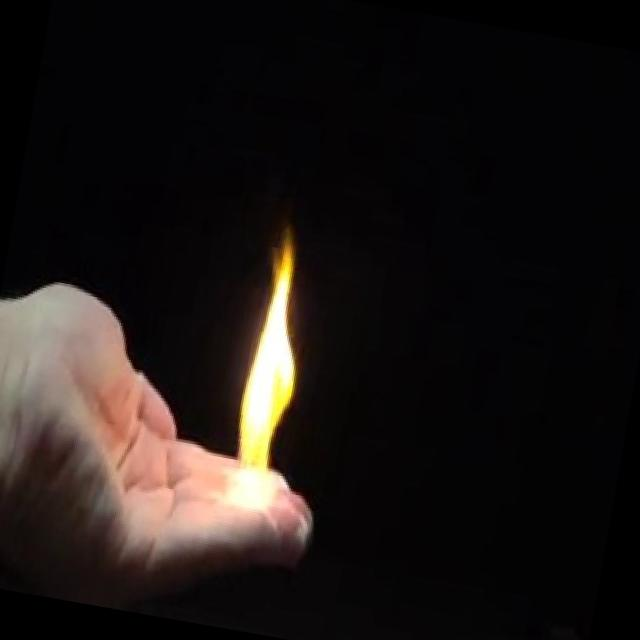Fire: (211, 210, 324, 523)
